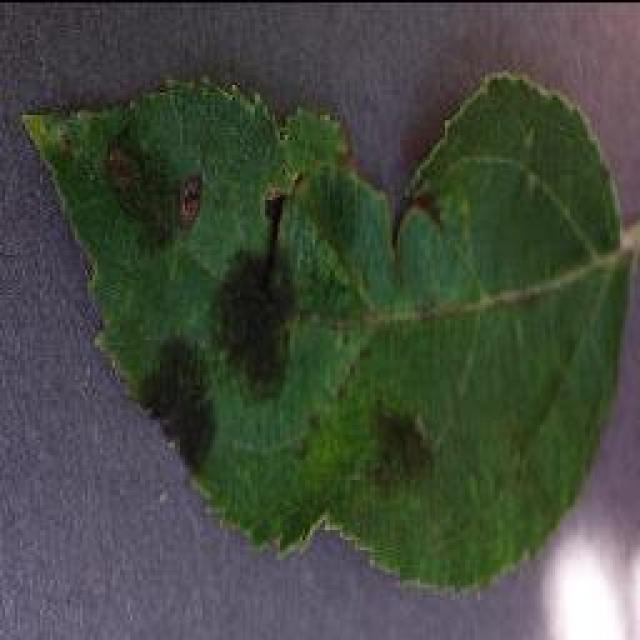apple scab disease: (18, 67, 638, 595)
